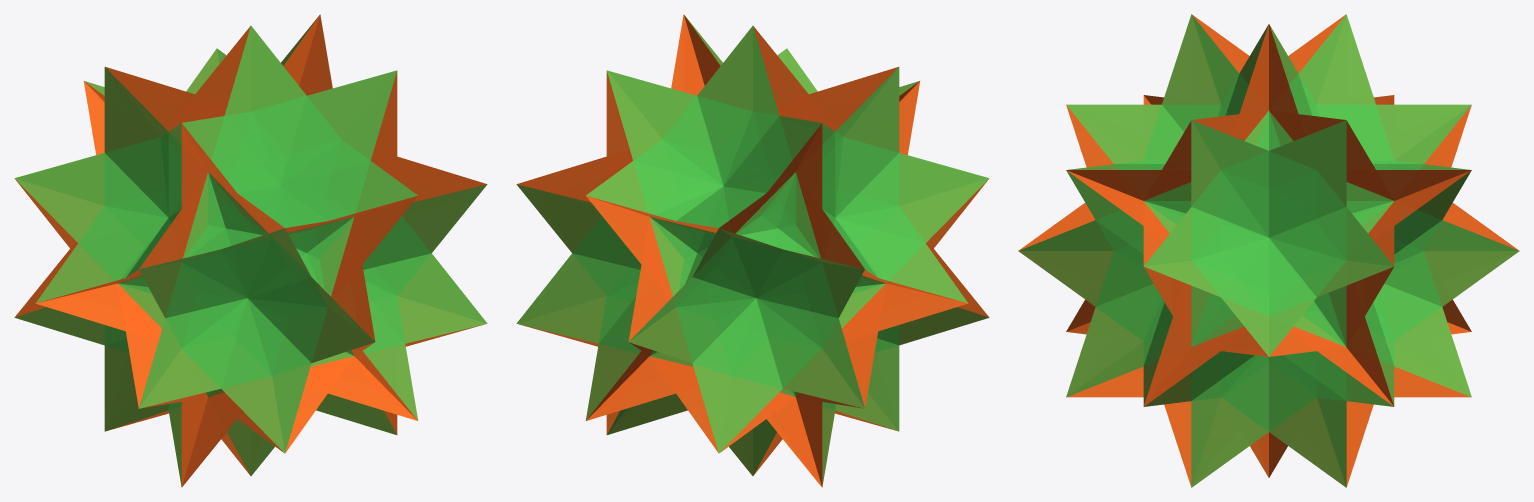
The model's file is GreatIcosihemidodecahedron.obj.
The picture shows the model from 3 angles, left to right: view 1: azimuth 30°, elevation 25°; view 2: azimuth 150°, elevation 25°; view 3: azimuth 270°, elevation 25°; orthographic projection.
Size of the model in its own units: 1.24 by 1.24 by 1.24.
